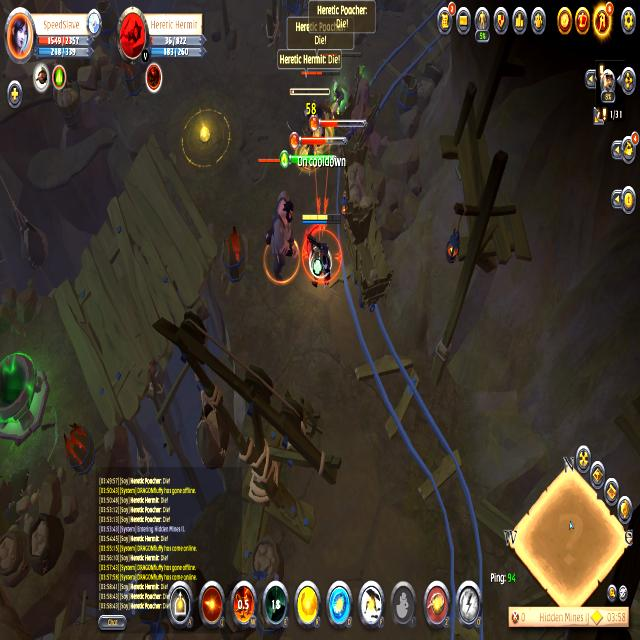ore: (257, 150, 301, 288), (286, 84, 332, 173), (321, 48, 365, 124), (300, 70, 341, 150)
red: (300, 213, 342, 294)
